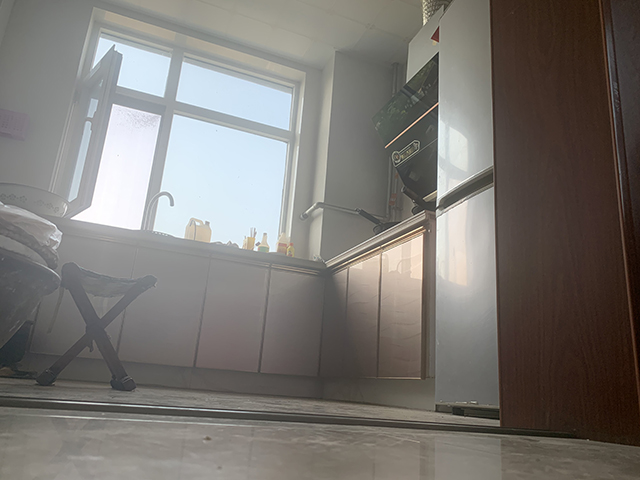cabinet: (67, 220, 323, 396), (325, 213, 435, 409)
stool: (33, 260, 159, 393)
